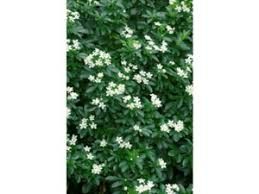flower: (89, 95, 100, 104), (120, 95, 132, 103), (152, 19, 164, 27), (69, 93, 80, 101), (98, 140, 109, 148), (119, 58, 130, 66), (103, 58, 114, 66), (98, 100, 107, 109), (94, 58, 103, 67), (174, 6, 183, 15), (79, 123, 89, 131), (83, 144, 93, 152), (123, 67, 134, 74), (131, 95, 140, 103), (87, 73, 95, 82), (124, 142, 133, 150), (155, 63, 163, 72), (86, 153, 96, 160), (89, 123, 98, 130), (96, 71, 105, 78), (116, 135, 123, 144), (132, 125, 142, 131), (67, 85, 74, 93), (116, 71, 124, 78), (80, 117, 88, 123), (95, 78, 103, 84), (89, 115, 96, 121)
